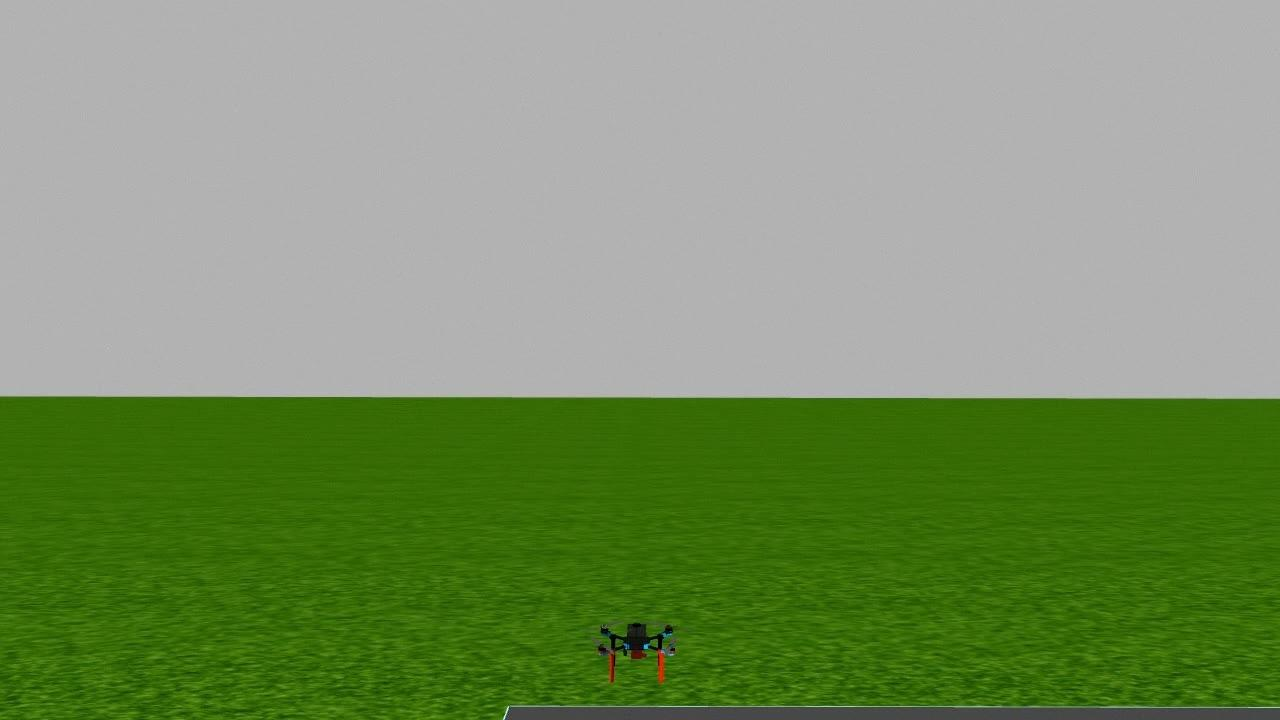UAV: (575, 614, 699, 686)
